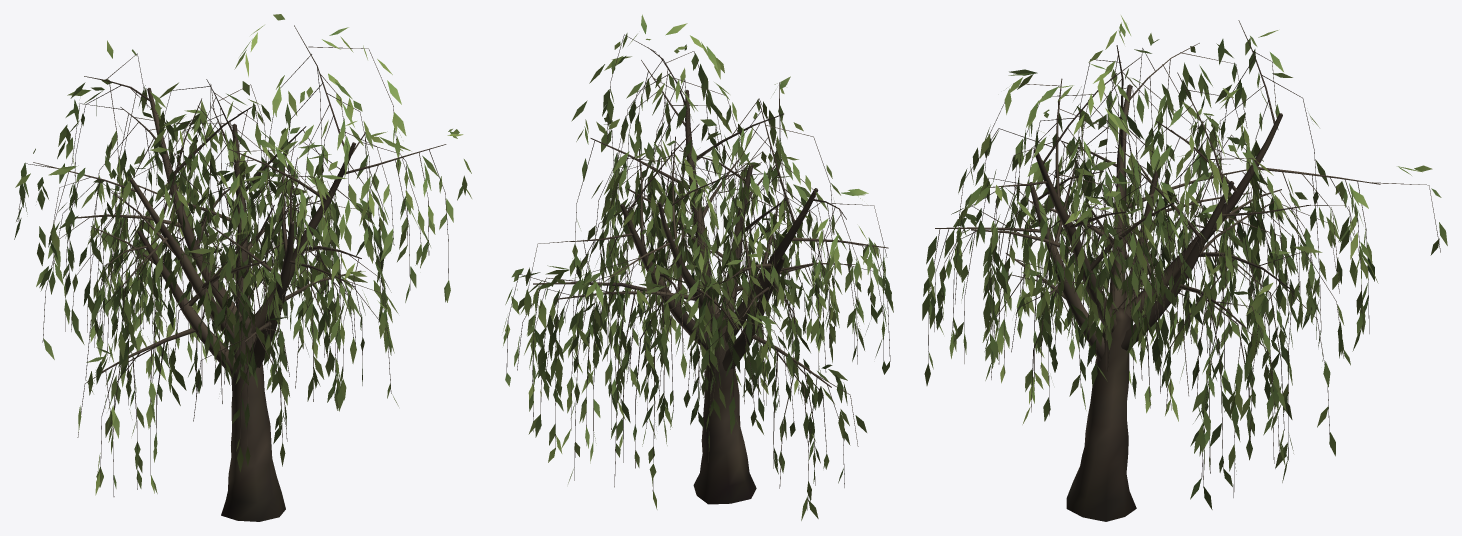
Rendered from willow-a.lod0.glb.
The picture shows the model from 3 angles, left to right: view 1: azimuth 30°, elevation 25°; view 2: azimuth 150°, elevation 25°; view 3: azimuth 270°, elevation 25°; orthographic projection. The views are drawn at different scales.
Size of the model in its own units: 7.13 by 8.51 by 7.96.
